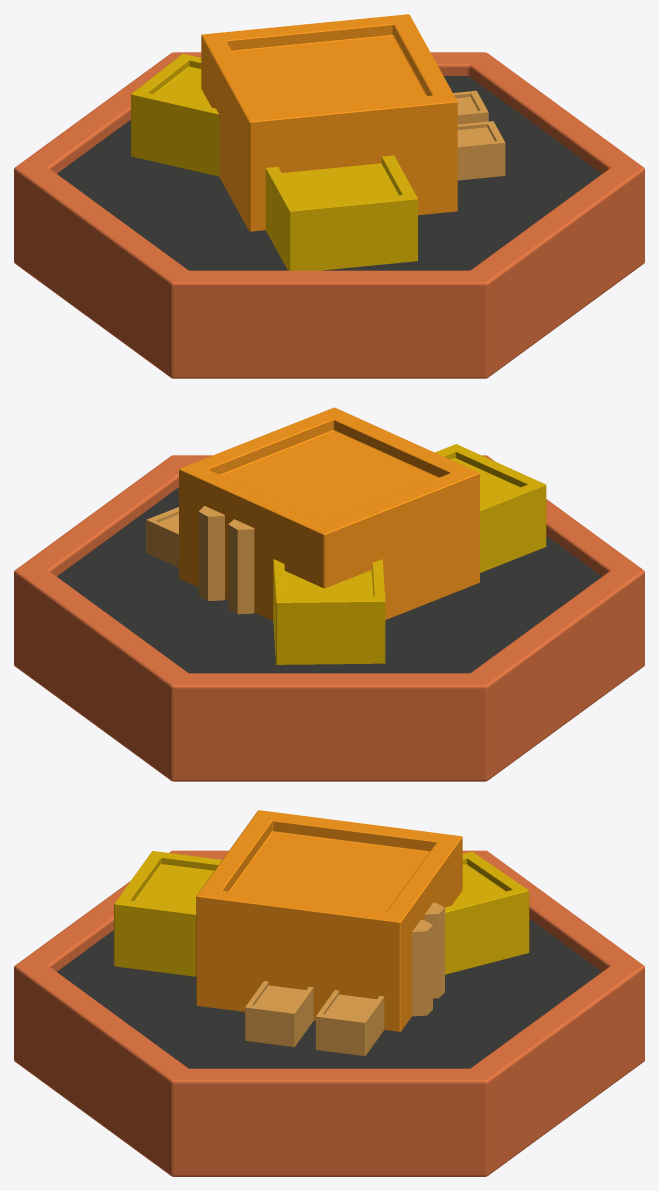
The model's file is Shop1.fbx.
The picture shows the model from 3 angles, top to bottom: view 1: azimuth 30°, elevation 25°; view 2: azimuth 150°, elevation 25°; view 3: azimuth 270°, elevation 25°; orthographic projection.
Parts seen in each view (by area): view 1: Cylinder.001; view 2: Cylinder.001; view 3: Cylinder.001.
Boxes of the visible parts, x1=… form: Cylinder.001: x1=14, y1=14, x2=644, y2=378; Cylinder.001: x1=14, y1=407, x2=644, y2=781; Cylinder.001: x1=14, y1=810, x2=644, y2=1176.
Size of the model in its own units: 173 by 68.38 by 200.
